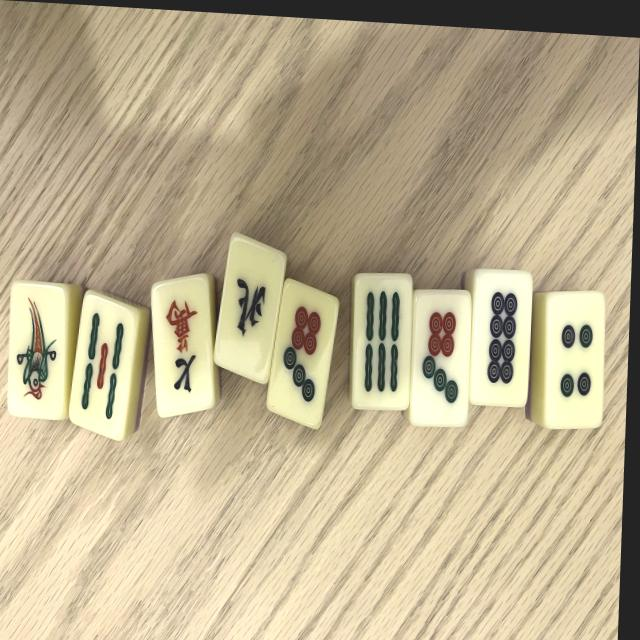m7: (148, 276, 218, 423)
north: (224, 272, 278, 345)
s1: (5, 283, 70, 422)
s5: (71, 293, 141, 441)
s6: (352, 277, 416, 414)
t4: (545, 292, 606, 433)
t7: (264, 278, 339, 429), (409, 289, 473, 430)
t8: (470, 269, 531, 408)
